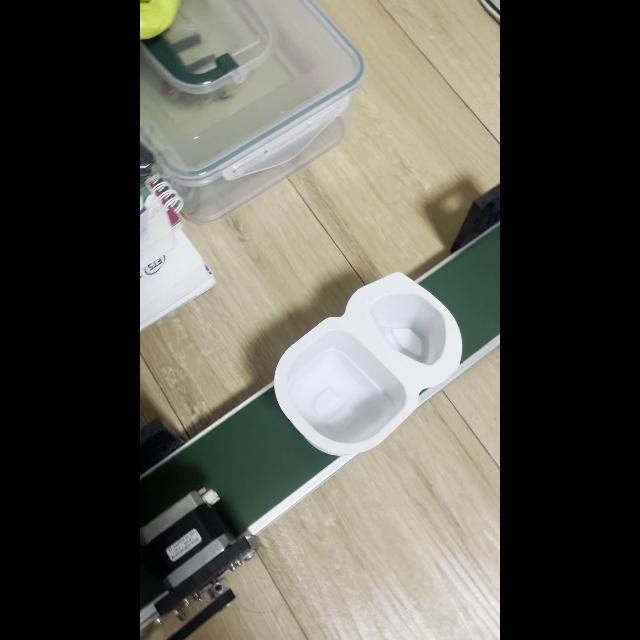clean: (298, 294, 437, 441)
